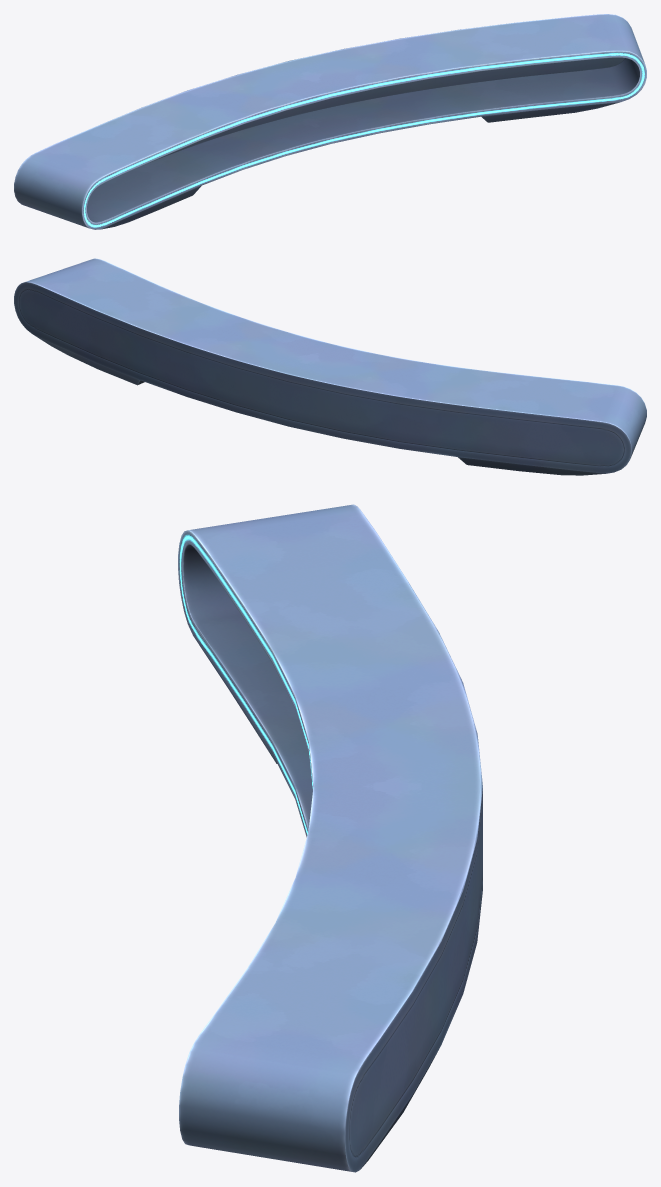
Rendered from obj_ltableb.gltf.
The picture shows the model from 3 angles, top to bottom: view 1: azimuth 30°, elevation 25°; view 2: azimuth 150°, elevation 25°; view 3: azimuth 270°, elevation 25°; orthographic projection. The views are drawn at different scales.
Parts seen in each view (by area): view 1: obj_ltableb; view 2: obj_ltableb; view 3: obj_ltableb.
Boxes of the visible parts, box(x1,y1,x2,y2) form: obj_ltableb: box(14, 14, 646, 229); obj_ltableb: box(14, 258, 646, 475); obj_ltableb: box(178, 504, 482, 1172).
Size of what is drawn, in the model's own units: 9.31 by 0.8735 by 1.99.
Materials: 1 (1 with a texture image).
